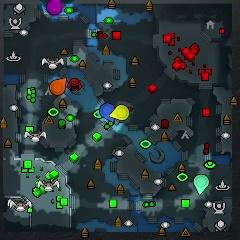p1: (100, 103, 115, 123)
p2: (195, 174, 208, 194)
p3: (47, 0, 63, 16)
p4: (110, 104, 129, 120)
p5: (49, 78, 66, 94)
